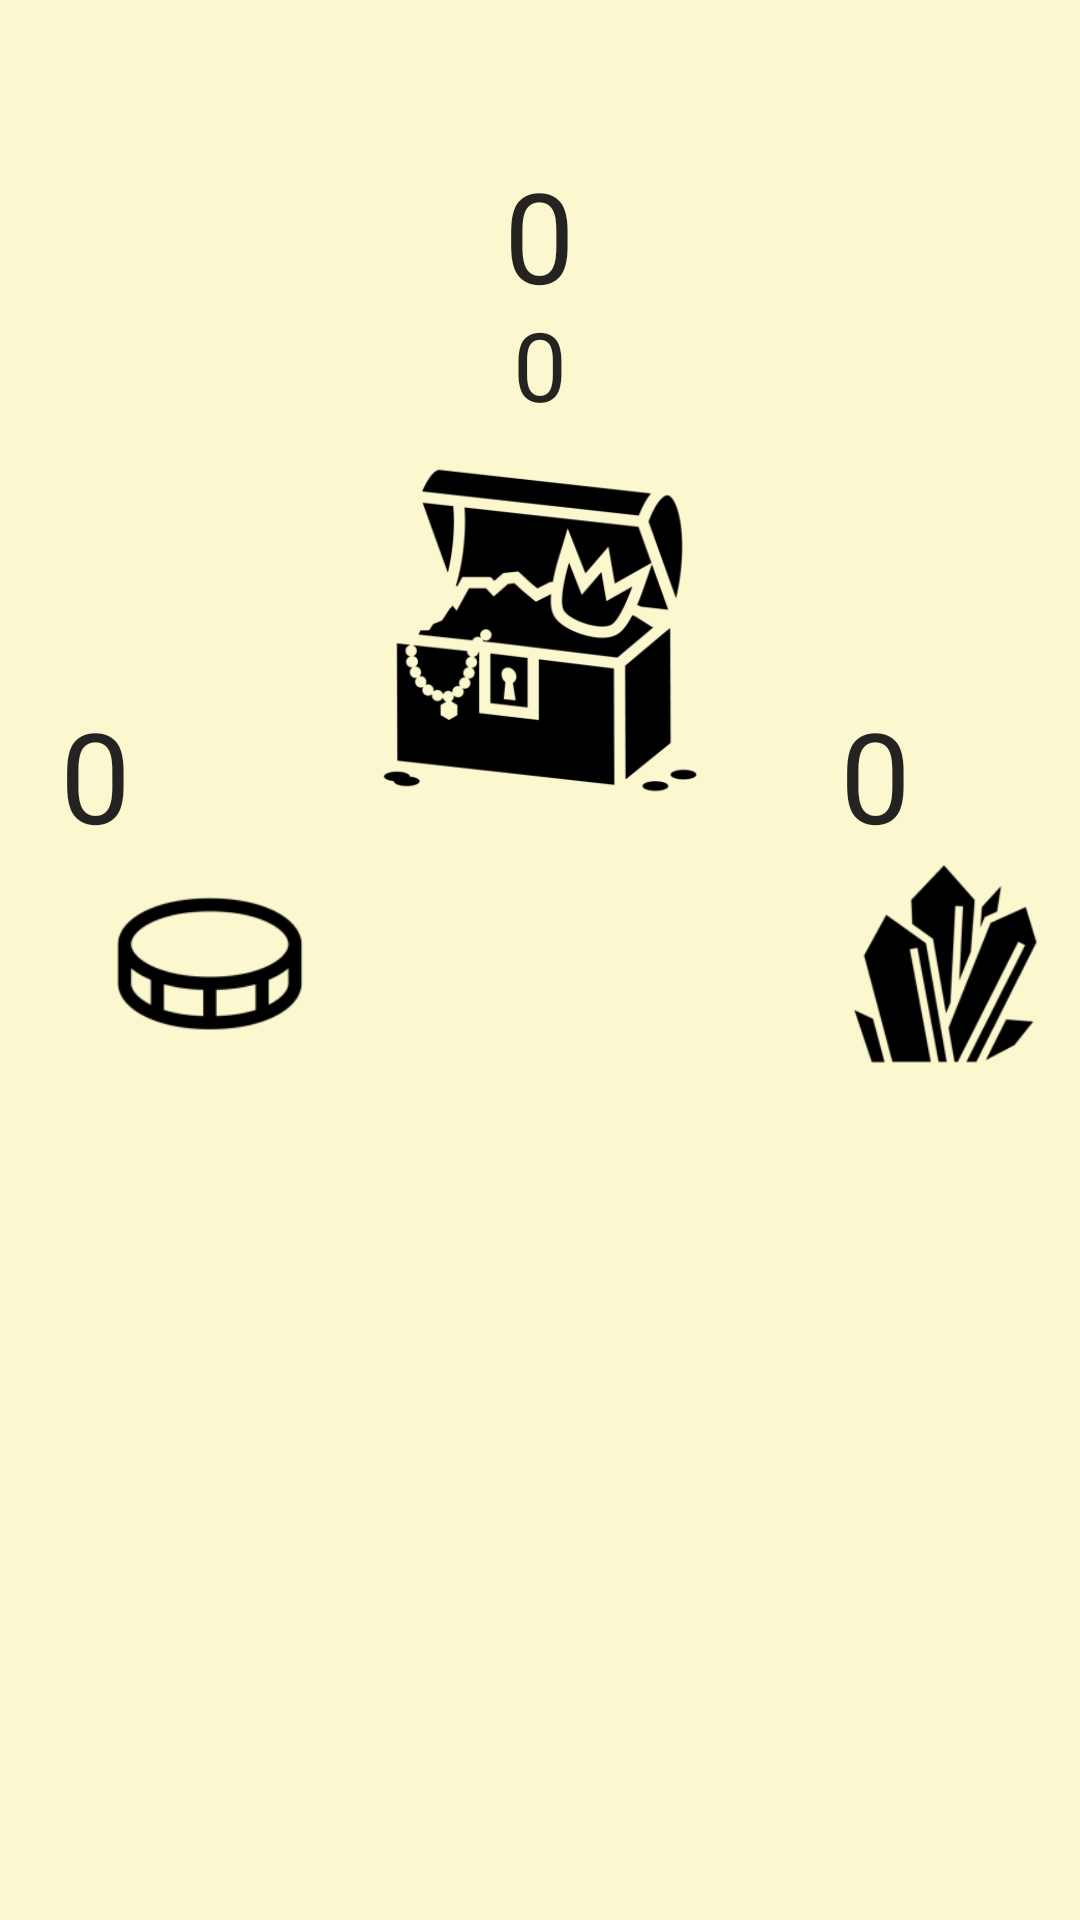

Screen size 1080 × 1920. Icon name, then its box in pixels as (x1, y1, x2, y2):
coin: (117, 897, 303, 1030)
crystal: (854, 865, 1037, 1063)
treasure: (383, 469, 697, 792)
